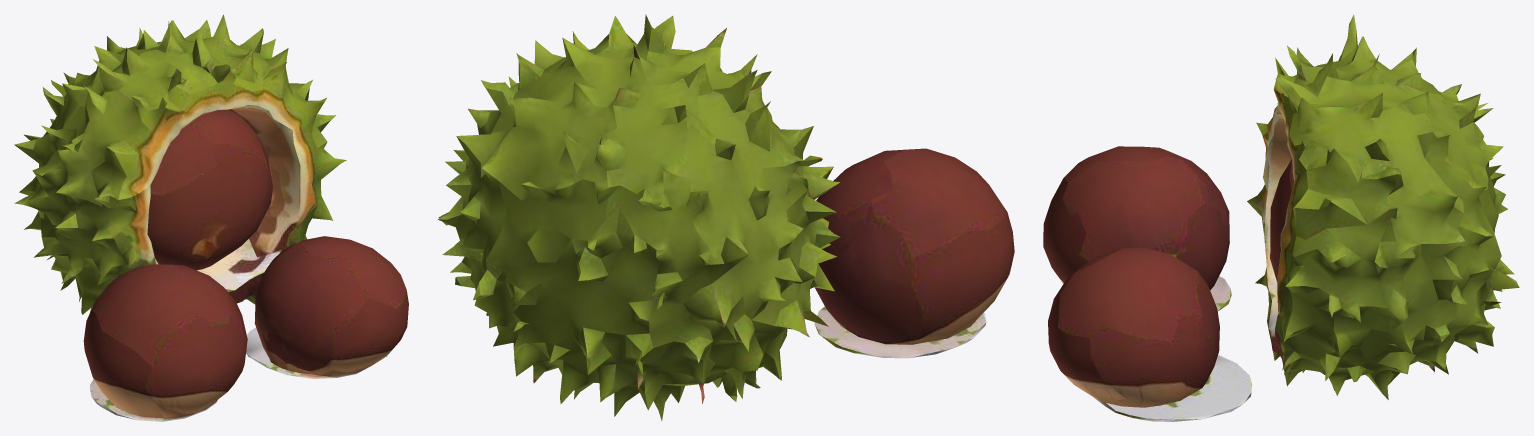
Rendered from chestnut.glb.
The picture shows the model from 3 angles, left to right: view 1: azimuth 30°, elevation 25°; view 2: azimuth 150°, elevation 25°; view 3: azimuth 270°, elevation 25°; orthographic projection. The views are drawn at different scales.
Visible parts, largest first — view 1: item_chestnut; view 2: item_chestnut; view 3: item_chestnut.
Part boxes in pixels (box(x1,y1,x2,y2)): item_chestnut: box(14, 14, 408, 421); item_chestnut: box(437, 14, 1014, 421); item_chestnut: box(1043, 14, 1519, 421).
Bounding box in the file's own units: 0.8953 × 0.7515 × 1.
Materials: 1 (1 with a texture image).
